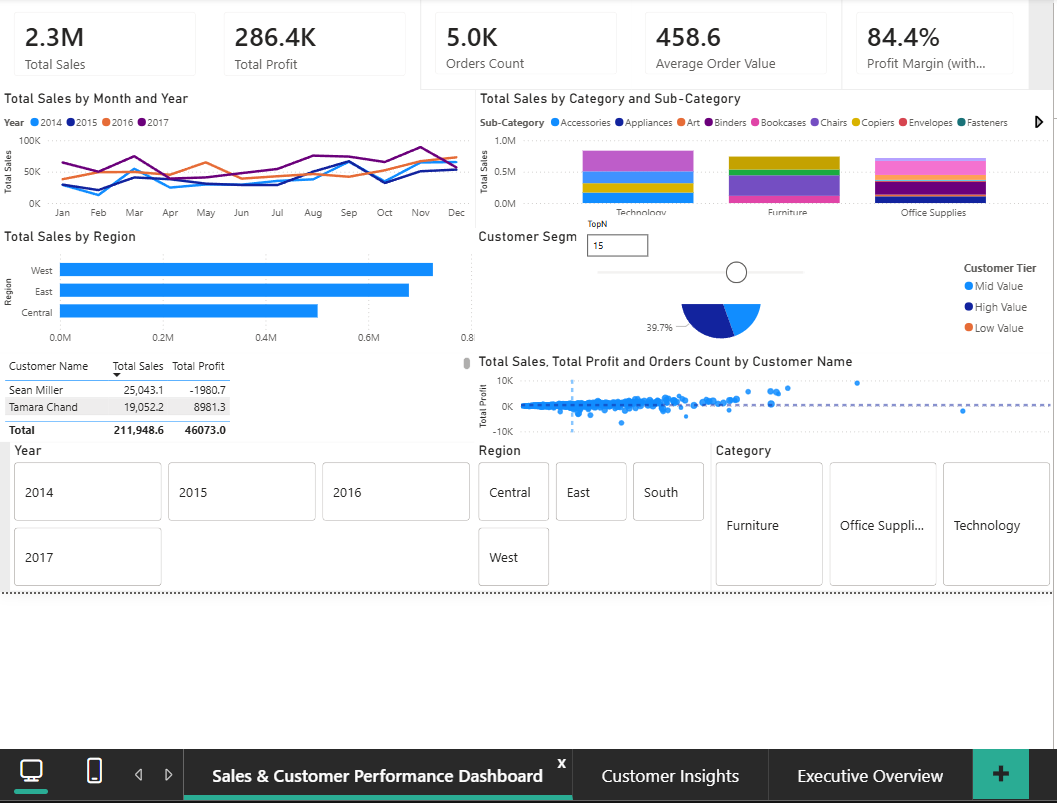

Layout of this report page (visuals, bound fields, positions):
{"tool":"powerbi","page":{"name":"Sales & Customer Performance Dashboard","canvas":[1280,720],"ordinal":0},"visuals":[{"type":"cardVisual","title":"Total Sales","fields":{"Data":["Sample - Superstore.Total Sales"]},"box":[0,0,255.6,112.2],"z":0},{"type":"cardVisual","title":"Total Profit","fields":{"Data":["Sample - Superstore.Total Profit"]},"box":[255.6,0,255.6,112.2],"z":1000},{"type":"cardVisual","title":"Orders Count","fields":{"Data":["Sample - Superstore.Orders Count"]},"box":[511.1,0,255.6,110.7],"z":2000},{"type":"cardVisual","title":"Average Order Value","fields":{"Data":["Sample - Superstore.Average Order Value"]},"box":[766.7,0,255.6,110.7],"z":3000},{"type":"lineChart","fields":{"Category":["Table.Month"],"Series":["Table.Year"],"Y":["Sample - Superstore.Total Sales"]},"box":[0,112.2,576.4,167.5],"z":4000},{"type":"columnChart","fields":{"Category":["DimProduct.Category"],"Y":["Sample - Superstore.Total Sales"],"Series":["DimProduct.Sub-Category"]},"box":[577.8,112.2,702.8,167.5],"z":5000},{"type":"clusteredBarChart","fields":{"Category":["Sample - Superstore.Region"],"Y":["Sample - Superstore.Total Sales"]},"box":[0,279.2,575.8,164],"z":6000},{"type":"pieChart","title":"Customer Segmentation by Sales","fields":{"Y":["Sample - Superstore.Total Sales"],"Category":["Sample - Superstore.Customer Tier"]},"box":[575.8,279.2,704.9,164],"z":7000},{"type":"tableEx","fields":{"Values":["DimCustomer.Customer Name","Sample - Superstore.Total Sales","Sample - Superstore.Total Profit"]},"box":[0,443.2,575.8,143.1],"z":8000},{"type":"scatterChart","fields":{"X":["Sample - Superstore.Total Sales"],"Y":["Sample - Superstore.Total Profit"],"Category":["Sample - Superstore.Customer Name"],"Size":["Sample - Superstore.Orders Count"]},"box":[575.8,443.2,704.9,143.1],"z":9000},{"type":"advancedSlicerVisual","fields":{"Values":["DimGeography.Region"]},"box":[575.8,586.3,287.9,134.4],"z":10000},{"type":"advancedSlicerVisual","fields":{"Values":["Sample - Superstore.Category"]},"box":[863.7,586.3,417,134.4],"z":11000},{"type":"advancedSlicerVisual","fields":{"Values":["Table.Year"]},"box":[0,586.3,575.8,134.4],"z":12000},{"type":"cardVisual","title":"Discount-adjusted Margin","fields":{"Data":["Sample - Superstore.Profit Margin"]},"box":[1022.5,0,258.2,109.9],"z":13000},{"type":"slicer","fields":{"Values":["TopN 3.TopN"]},"box":[287.9,443.2,253,85.5],"z":14000}]}

Visuals, with their boxes on the page's 1280x720 design canvas (x1, y1, x2, y2). These are canvas units, not pixel positions in the 1057x803 screenshot, which may show the page scaled, cropped or inside an application window:
"Total Sales" cardVisual: [0,0,256,112]
"Total Profit" cardVisual: [256,0,511,112]
"Orders Count" cardVisual: [511,0,767,111]
"Average Order Value" cardVisual: [767,0,1022,111]
lineChart - Table.Month x Table.Year: [0,112,576,280]
columnChart - DimProduct.Category x Sample - Superstore.Total Sales: [578,112,1281,280]
clusteredBarChart - Sample - Superstore.Region x Sample - Superstore.Total Sales: [0,279,576,443]
"Customer Segmentation by Sales" pieChart: [576,279,1281,443]
tableEx - DimCustomer.Customer Name x Sample - Superstore.Total Sales: [0,443,576,586]
scatterChart - Sample - Superstore.Total Sales x Sample - Superstore.Total Profit: [576,443,1281,586]
advancedSlicerVisual - DimGeography.Region: [576,586,864,721]
advancedSlicerVisual - Sample - Superstore.Category: [864,586,1281,721]
advancedSlicerVisual - Table.Year: [0,586,576,721]
"Discount-adjusted Margin" cardVisual: [1022,0,1281,110]
slicer - TopN 3.TopN: [288,443,541,529]
